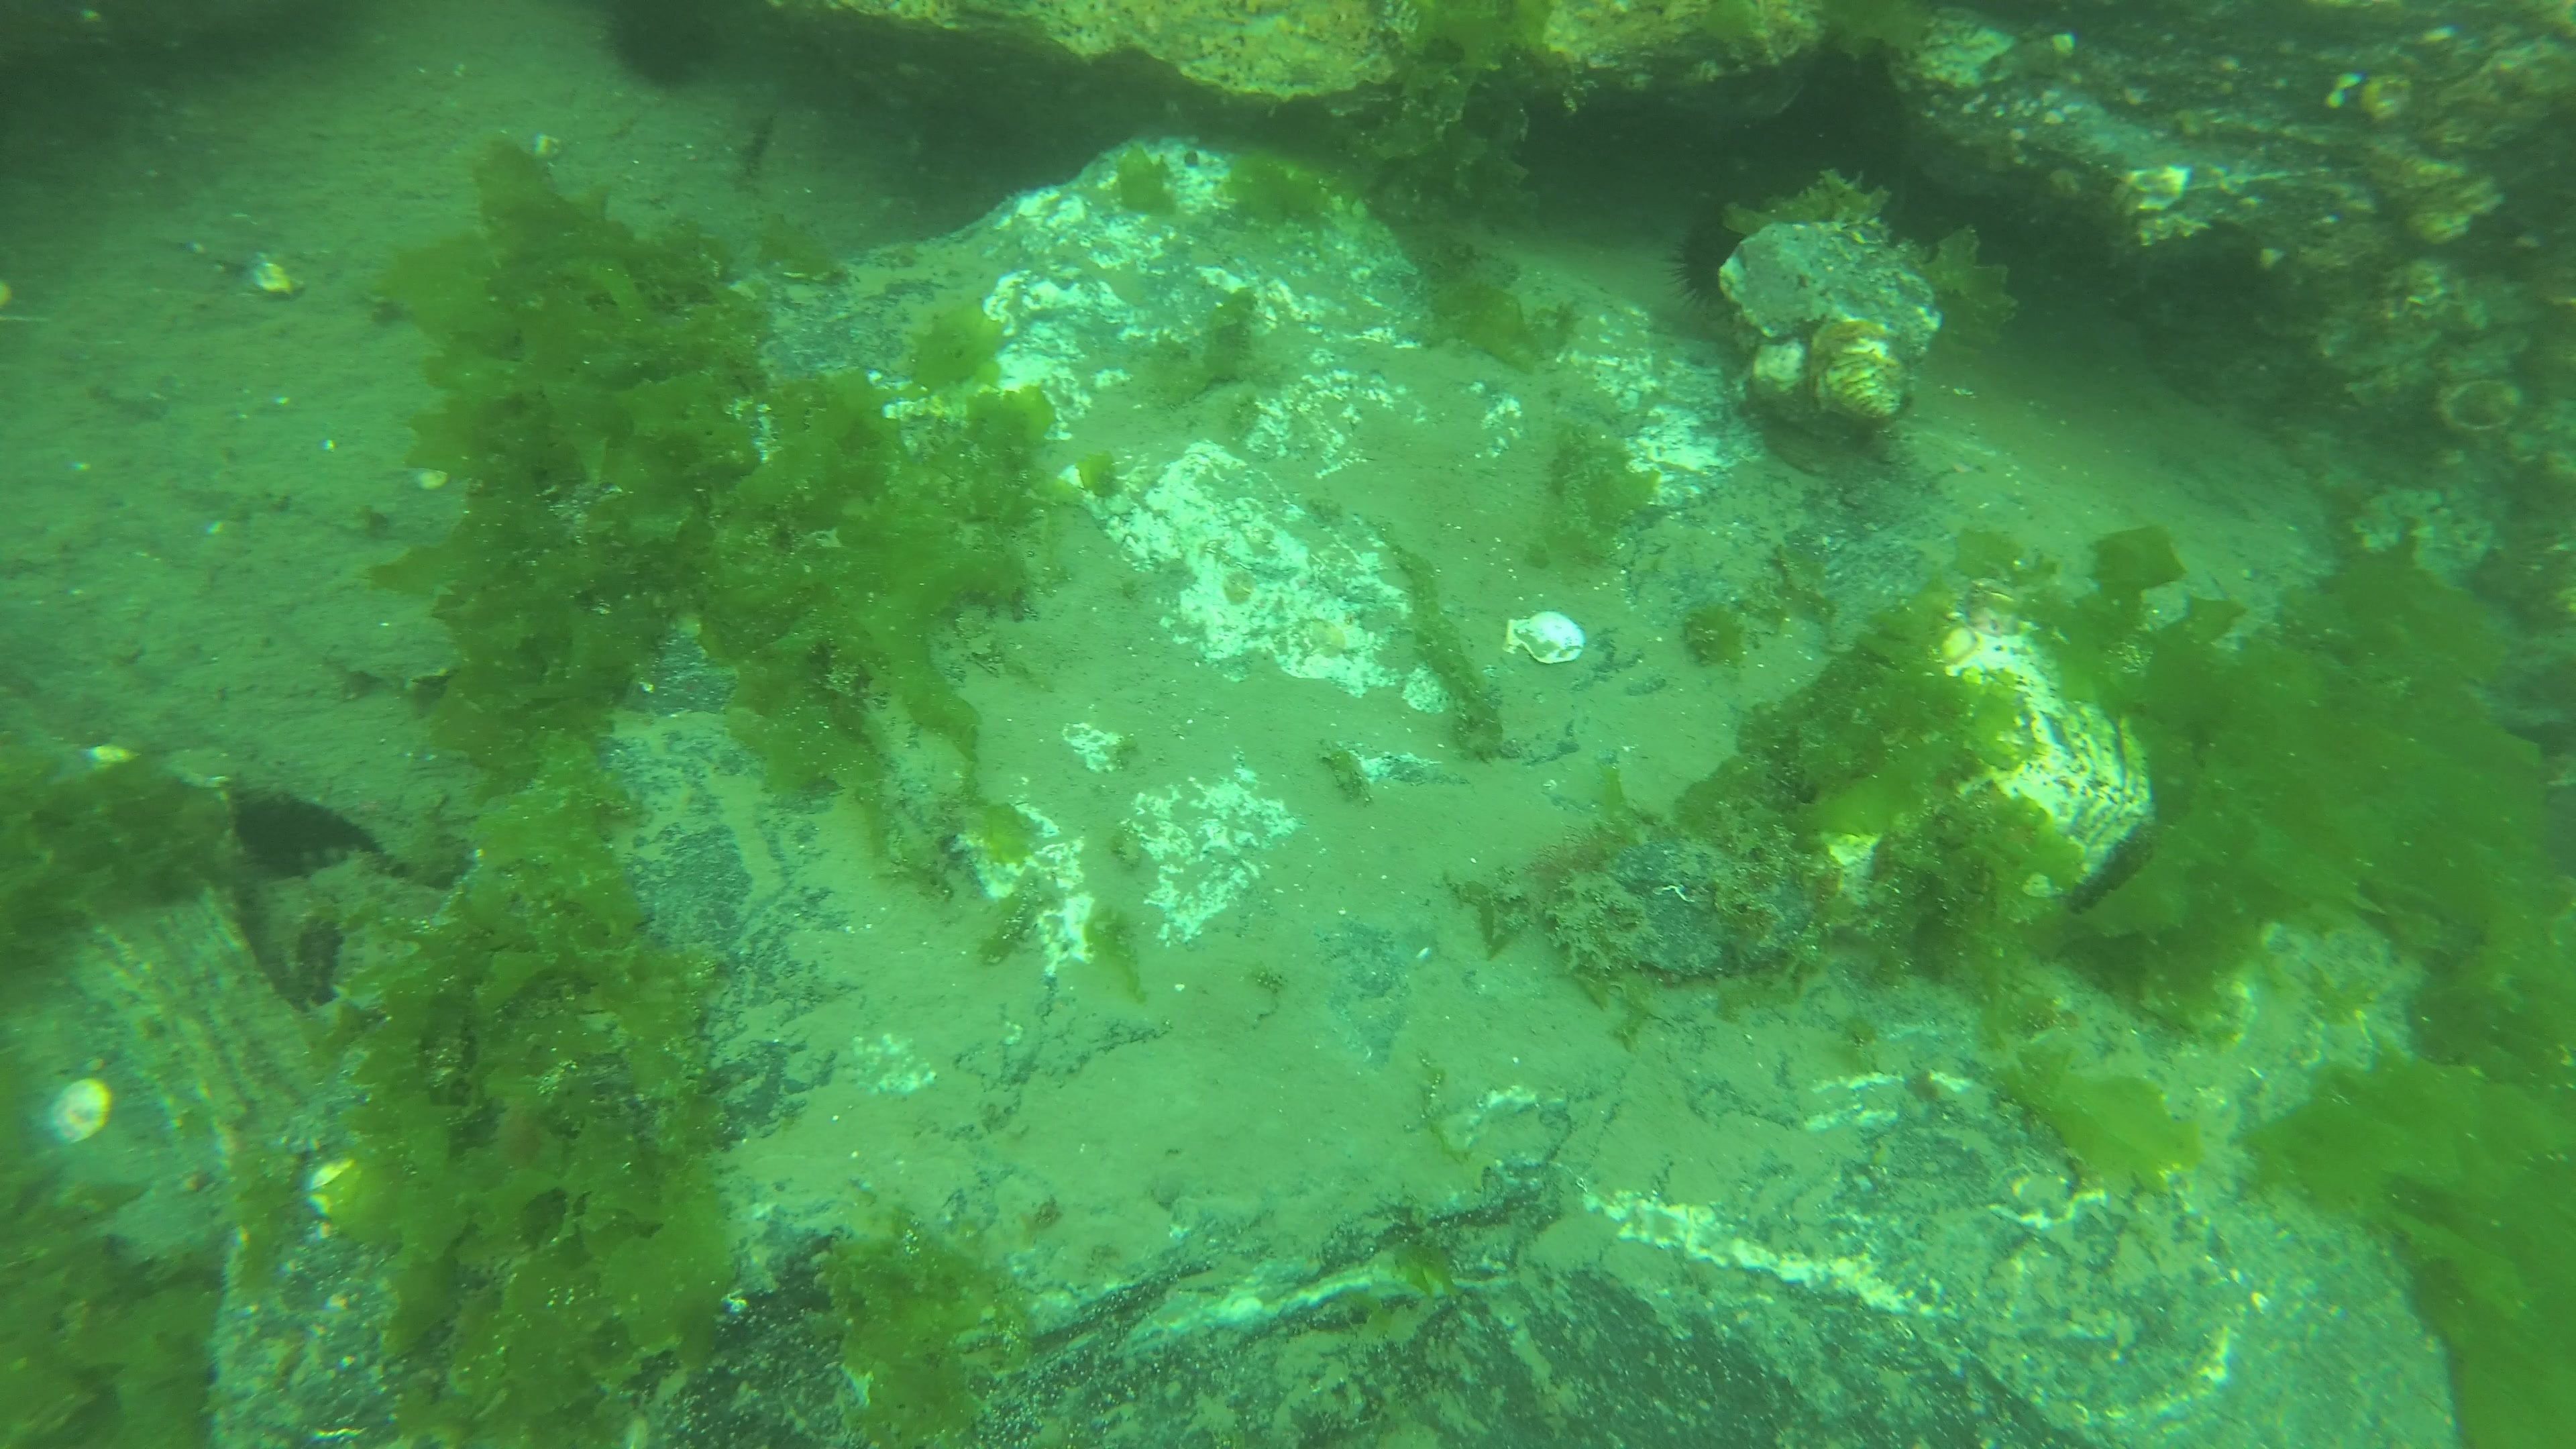echinus: (607, 2, 725, 87), (1674, 219, 1755, 313)
scallop: (1502, 605, 1585, 667)
